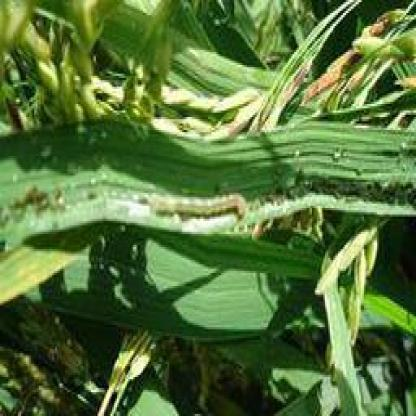leaf-folder: (142, 182, 260, 230)
